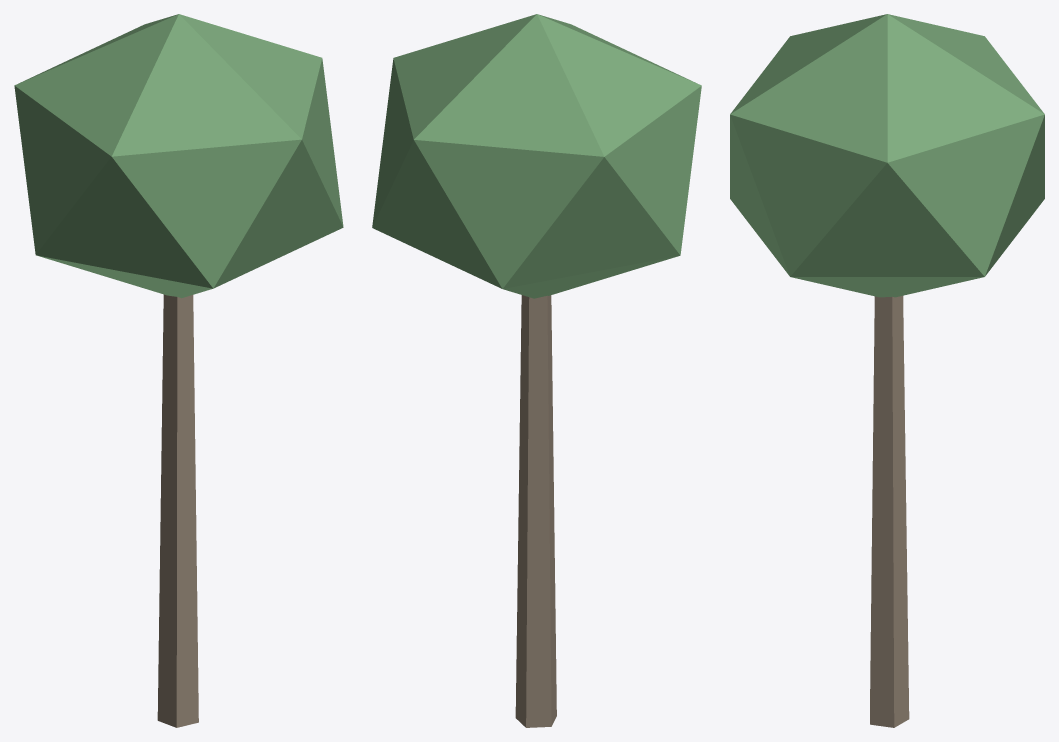
Rendered from veg-tree-young.glb.
3 renders of one model, left to right at view 1: azimuth 30°, elevation 25°; view 2: azimuth 150°, elevation 25°; view 3: azimuth 270°, elevation 25°, orthographic.
Visible parts, largest first — view 1: canopy, trunk; view 2: canopy, trunk; view 3: canopy, trunk.
Boxes of the visible parts, x1,y1,x2,y2 form: canopy: (14, 14, 343, 298); trunk: (157, 294, 198, 727); canopy: (372, 14, 701, 298); trunk: (515, 295, 556, 727); canopy: (730, 14, 1044, 297); trunk: (870, 295, 909, 727).
Bounding box in the file's own units: 1.52 × 3.57 × 1.45.
